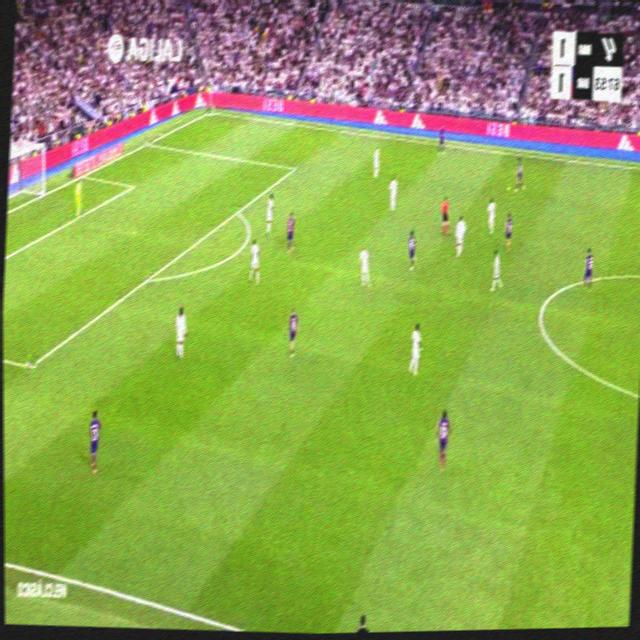bigarea_bottom_inner: (24, 354, 36, 377)
bigarea_top_inner: (290, 160, 299, 175)
bigarea_top_outter: (143, 135, 153, 148)
bottom_arc_area_intersection: (143, 270, 154, 288)
corner: (205, 105, 215, 116)
smallarea_top_inner: (129, 178, 138, 192)
top_arc_area_intersection: (232, 204, 242, 218)
